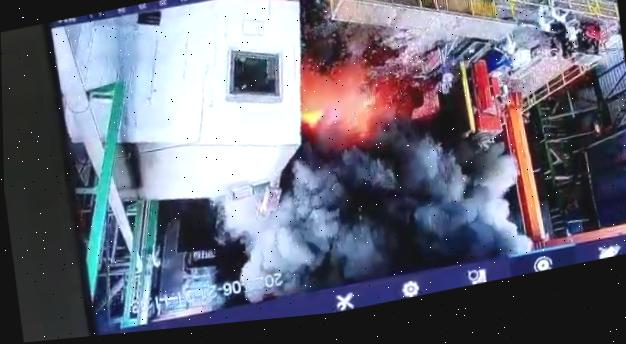fire: (290, 34, 444, 173)
